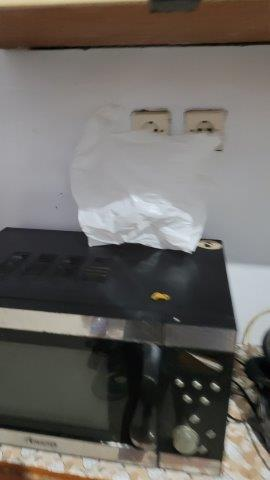plastik: (73, 103, 223, 250)
